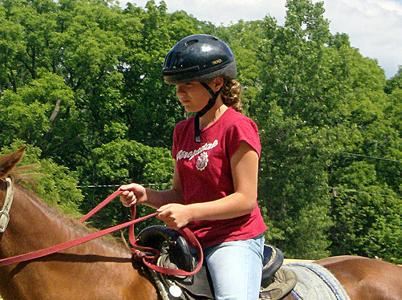person: (116, 35, 266, 299)
